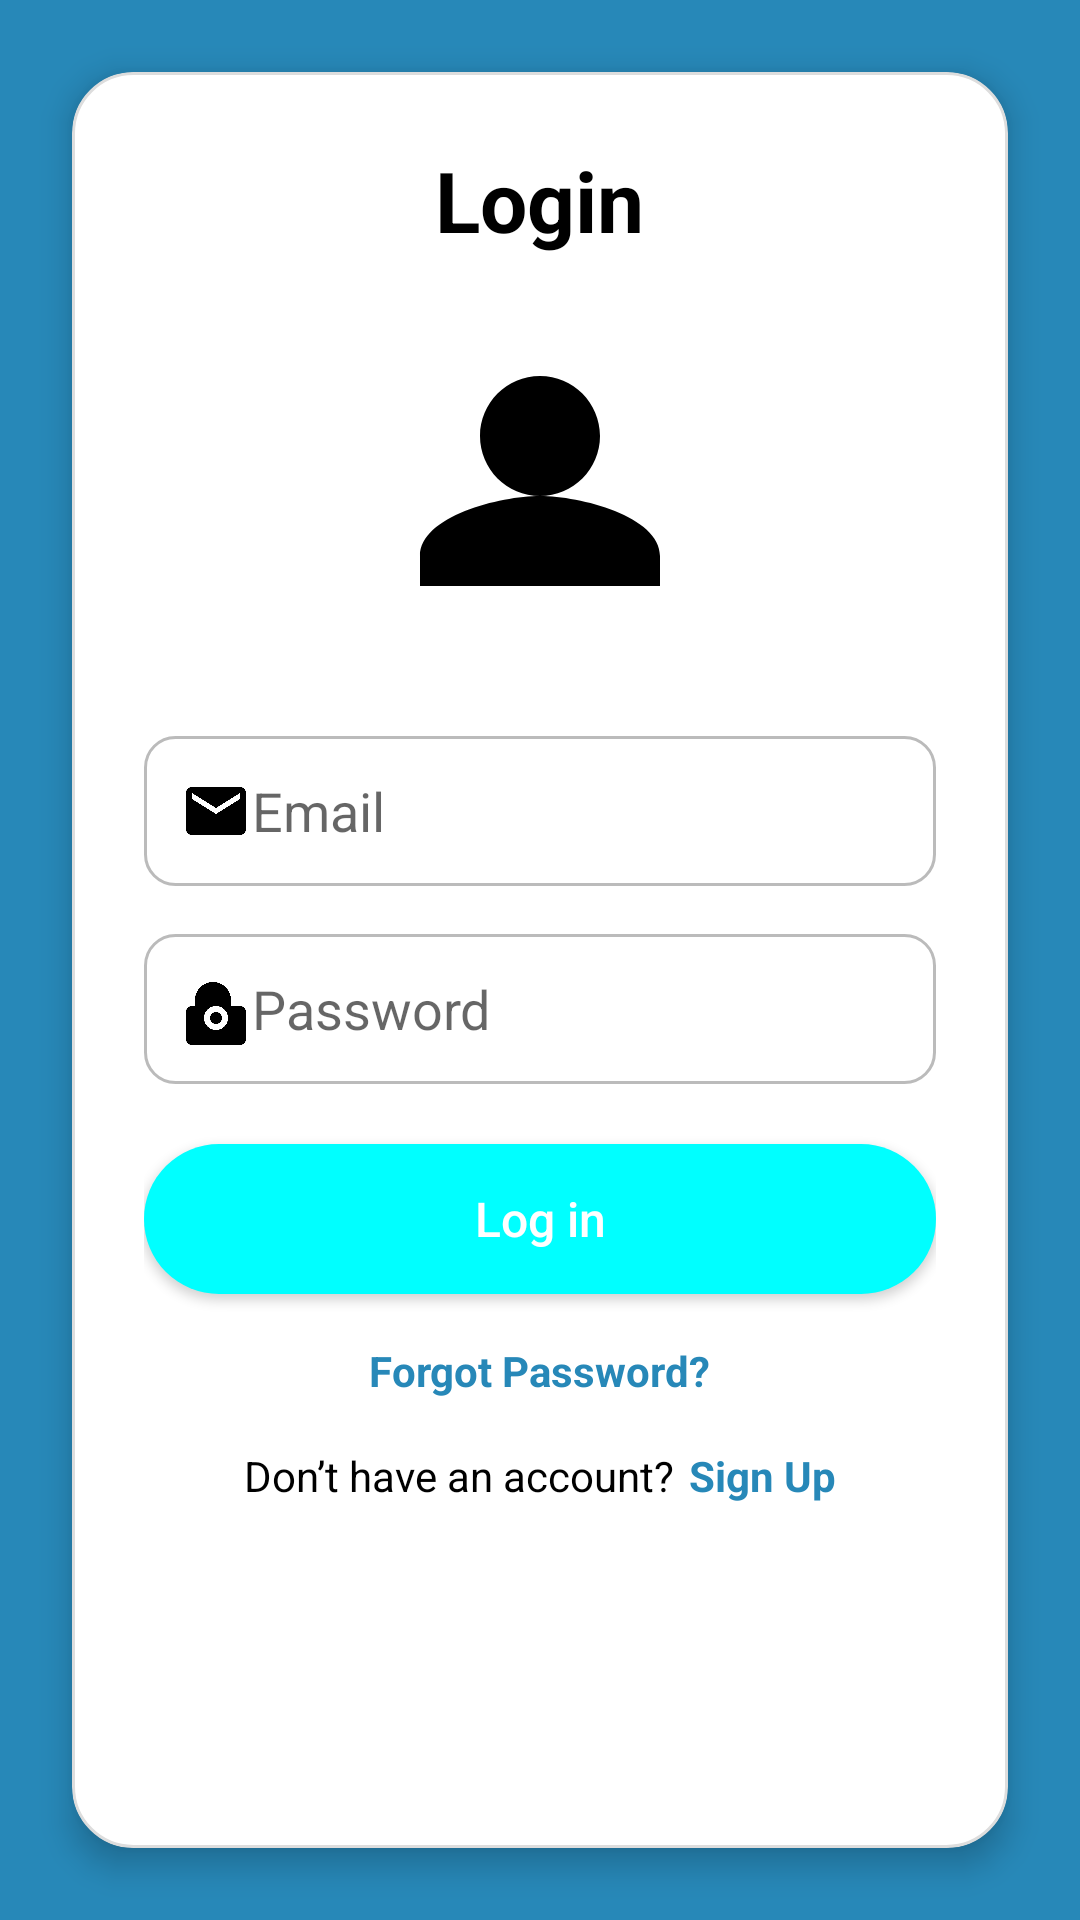

Where to tap for icons on this 1080×1920 app screen, as [x,y]:
user: [540,481]
